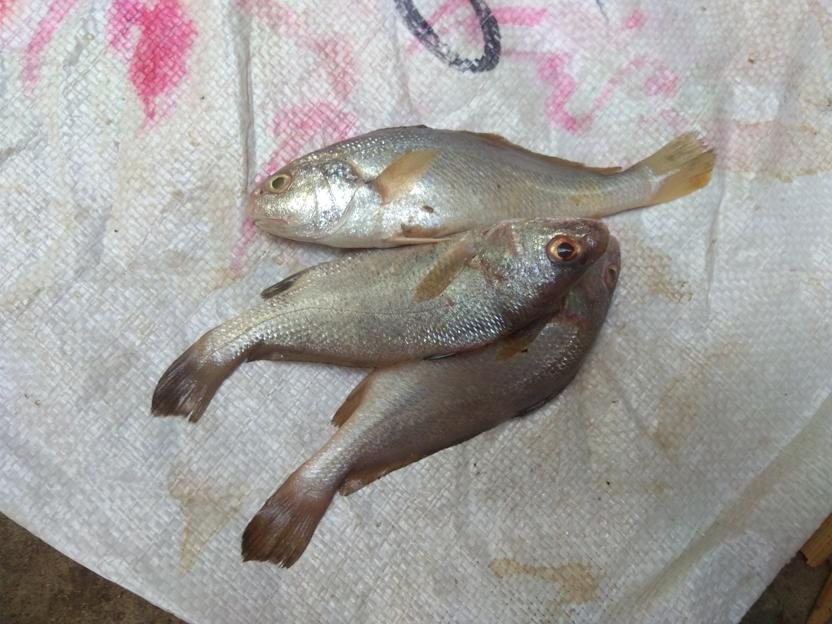Fish head: (484, 216, 611, 311), (248, 156, 364, 246), (569, 236, 623, 324)
Fish tail: (240, 468, 338, 569), (150, 329, 239, 424), (639, 129, 718, 209)
